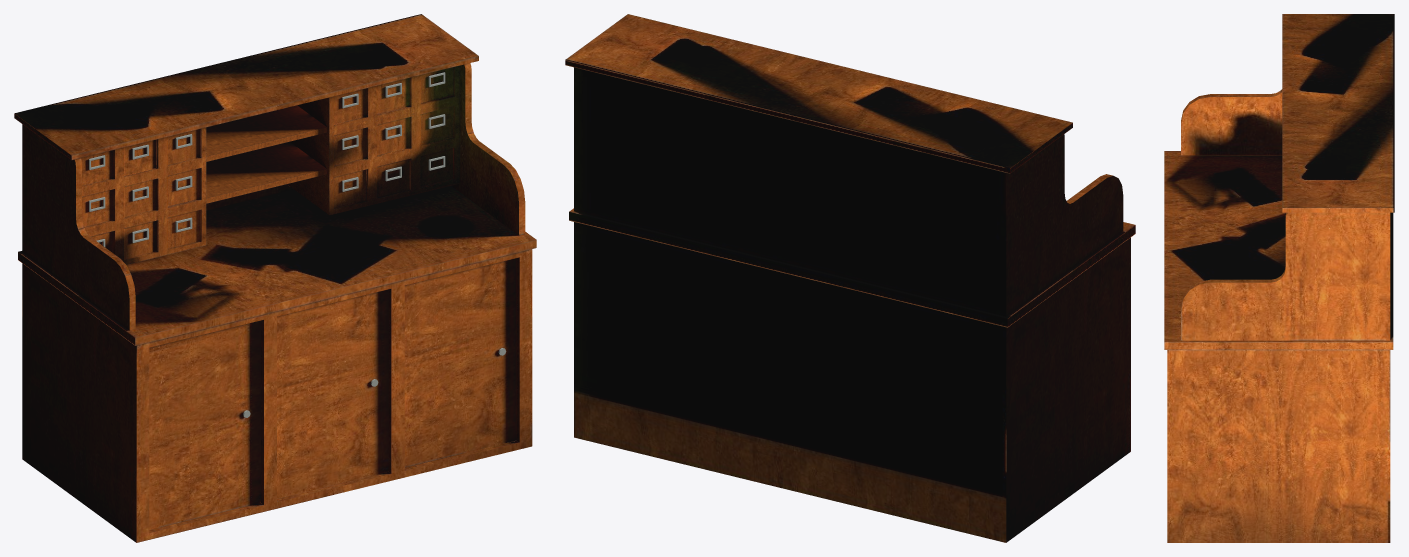
File: dolores_desk.glb
3 renders of one model, left to right at view 1: azimuth 30°, elevation 25°; view 2: azimuth 150°, elevation 25°; view 3: azimuth 270°, elevation 25°, orthographic. The views are drawn at different scales.
Visible parts, largest first — view 1: Cube, Cube.001, Cube.003, Cube.002; view 2: Cube; view 3: Cube.
Part boxes in pixels (<box>): Cube: <box>14,14,536,542</box>; Cube.001: <box>81,65,459,264</box>; Cube.003: <box>206,141,326,203</box>; Cube.002: <box>206,105,326,161</box>; Cube: <box>565,14,1135,542</box>; Cube: <box>1164,14,1394,542</box>.
Size of the model in its own units: 4.12 by 3.34 by 2.07.
Materials: 6 (4 with a texture image).
